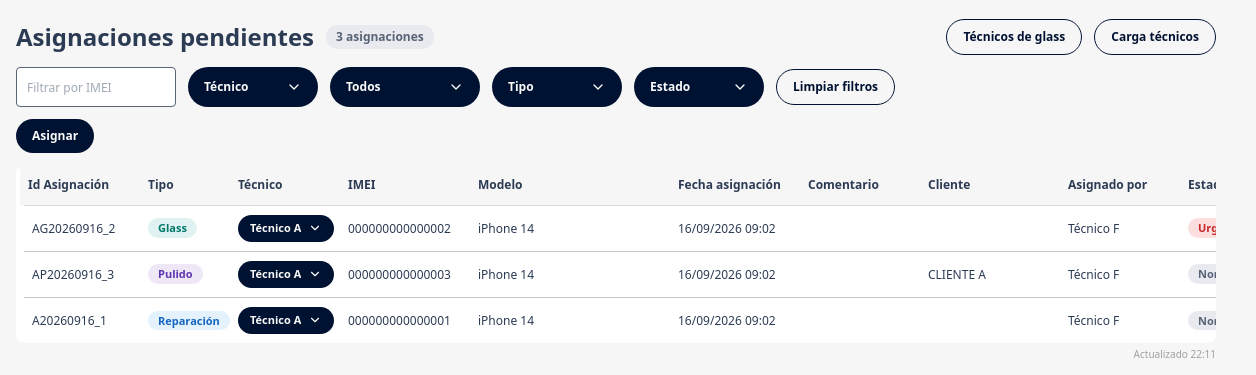
Test: AsignacionesPage · el sondeo se congela mientras hay algo abierto (D4) › «Carga técnicos» abre el panel de carga y el sondeo sigue
The width and height of the screenshot is (1256, 375).
Expected: the text "A20260916_1" is shown, [20, 297, 140, 343]
Click the button "Carga técnicos" at point(1155, 37), box [1094, 19, 1216, 55]
Wait 60000 ms
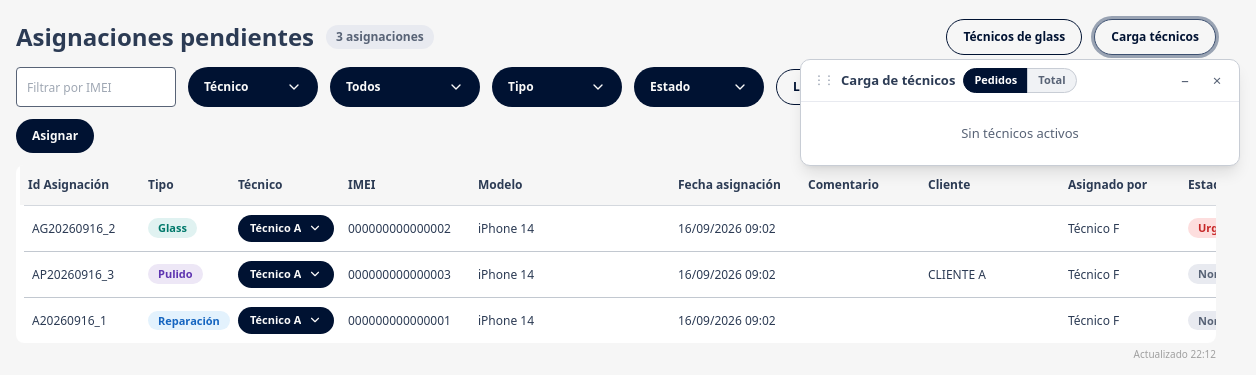
Expected: the element "Carga de técnicos" is shown, [800, 59, 1240, 166]
